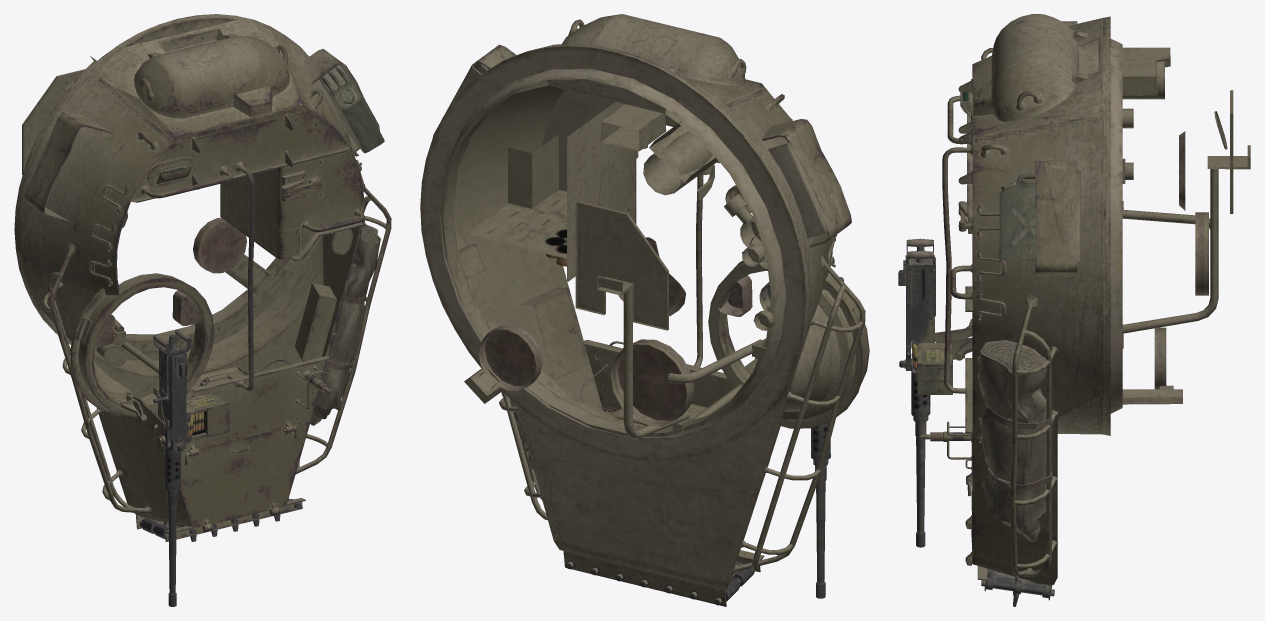
The model's file is Turret_01.glb.
3 renders of one model, left to right at view 1: azimuth 30°, elevation 25°; view 2: azimuth 150°, elevation 25°; view 3: azimuth 270°, elevation 25°, orthographic. The views are drawn at different scales.
Parts seen in each view (by area): view 1: set_0_group_0; view 2: set_0_group_0; view 3: set_0_group_0.
Boxes of the visible parts, x1=… form: set_0_group_0: x1=14, y1=14, x2=391, y2=606; set_0_group_0: x1=420, y1=14, x2=869, y2=606; set_0_group_0: x1=898, y1=14, x2=1250, y2=606.
Bounding box in the file's own units: 2.18 × 3.07 × 1.75.
Materials: 1 (1 with a texture image).
